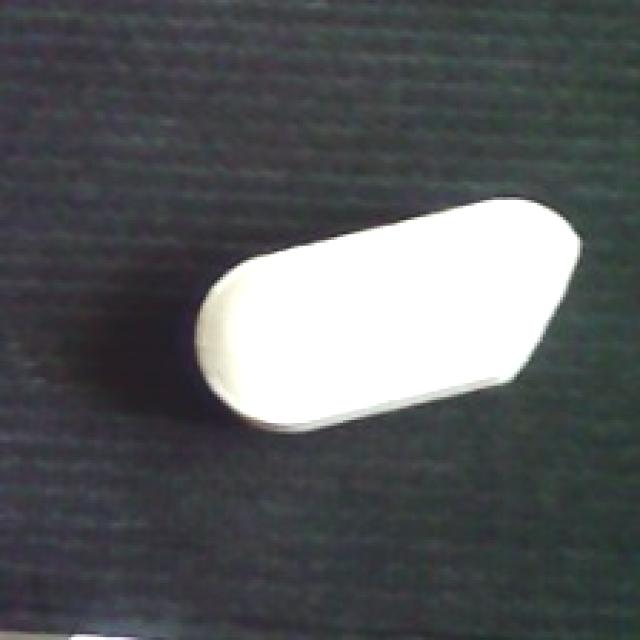defected: (194, 194, 592, 443)
